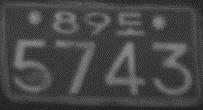3: (151, 41, 193, 96)
4: (105, 40, 145, 95)
5: (12, 38, 52, 93)
7: (54, 38, 96, 94)
8: (52, 10, 79, 35)
9: (83, 10, 111, 36)
도: (117, 11, 144, 37)
